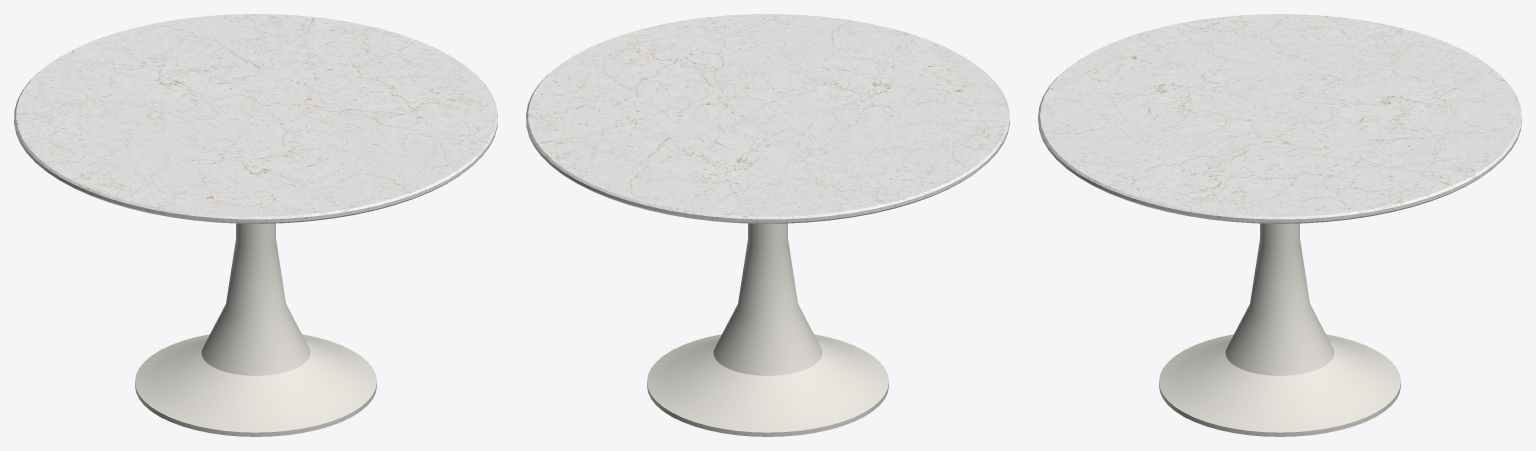
File: mesa_redonda_marmol_120.glb
The picture shows the model from 3 angles, left to right: view 1: azimuth 30°, elevation 25°; view 2: azimuth 150°, elevation 25°; view 3: azimuth 270°, elevation 25°; orthographic projection.
Parts seen in each view (by area): view 1: mesa_redonda_marmol_120; view 2: mesa_redonda_marmol_120; view 3: mesa_redonda_marmol_120.
Part boxes in pixels (x1,y1,x2,y2): mesa_redonda_marmol_120: (14, 14, 497, 436); mesa_redonda_marmol_120: (526, 14, 1009, 436); mesa_redonda_marmol_120: (1038, 14, 1521, 436).
Size of the model in its own units: 1.2 by 0.74 by 1.2.
2 materials, 1 textured.
